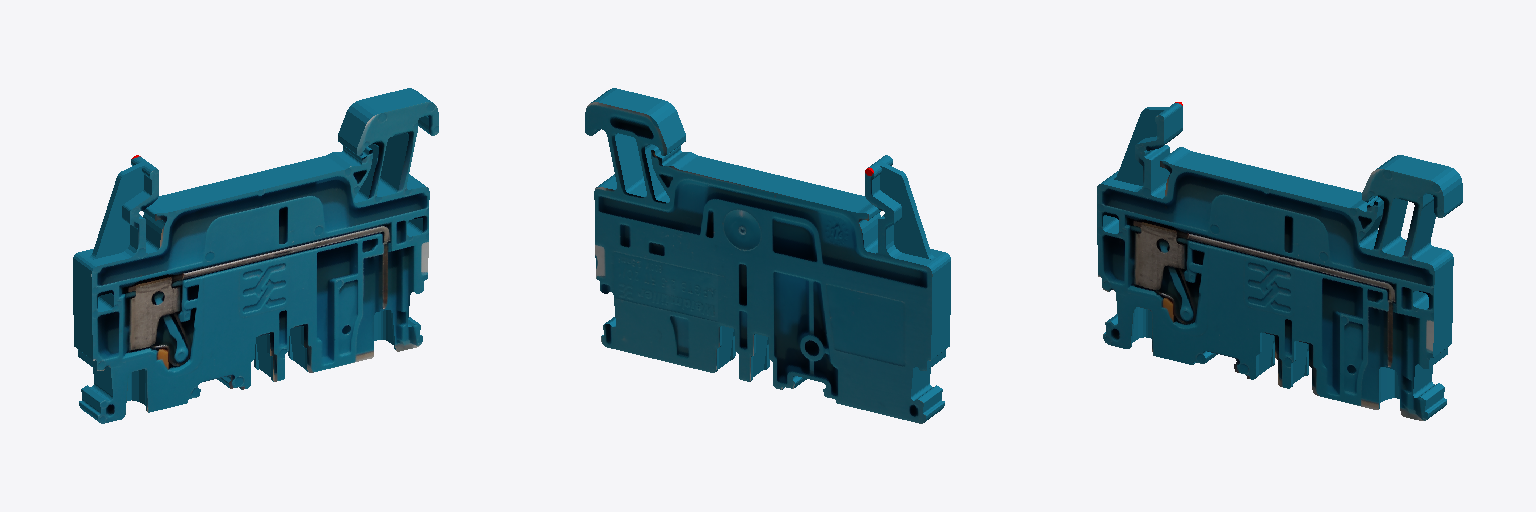
3 renders of one model, left to right at view 1: azimuth 30°, elevation 25°; view 2: azimuth 150°, elevation 25°; view 3: azimuth 330°, elevation 25°, orthographic.
Visible parts, largest first — view 1: [number redacted]_[number redacted].008; view 2: [number redacted]_[number redacted].008; view 3: [number redacted]_[number redacted].008.
Part boxes in pixels (x1,y1,x2,y2): [number redacted]_[number redacted].008: (73, 88, 438, 423); [number redacted]_[number redacted].008: (585, 88, 950, 423); [number redacted]_[number redacted].008: (1097, 102, 1462, 420).
Bounding box in the file's own units: 0.0542 × 0.0362 × 0.0051.
1 materials, 1 textured.